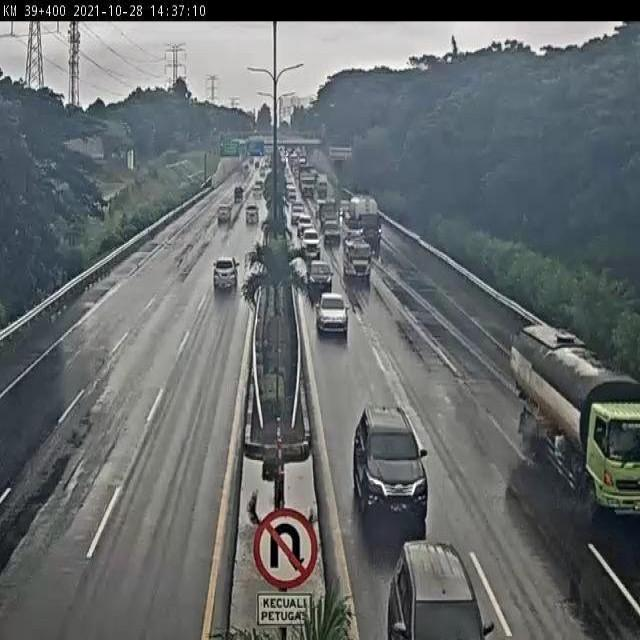big truck: (504, 320, 640, 517), (346, 189, 383, 252)
car: (377, 529, 496, 640), (342, 396, 435, 531), (314, 289, 352, 340), (210, 252, 240, 295), (304, 254, 336, 294), (318, 216, 344, 249), (297, 224, 321, 256), (296, 212, 316, 237), (242, 203, 261, 229), (214, 204, 234, 225), (289, 202, 304, 222), (232, 186, 245, 206), (251, 184, 263, 203)
small truck: (339, 228, 371, 280)
